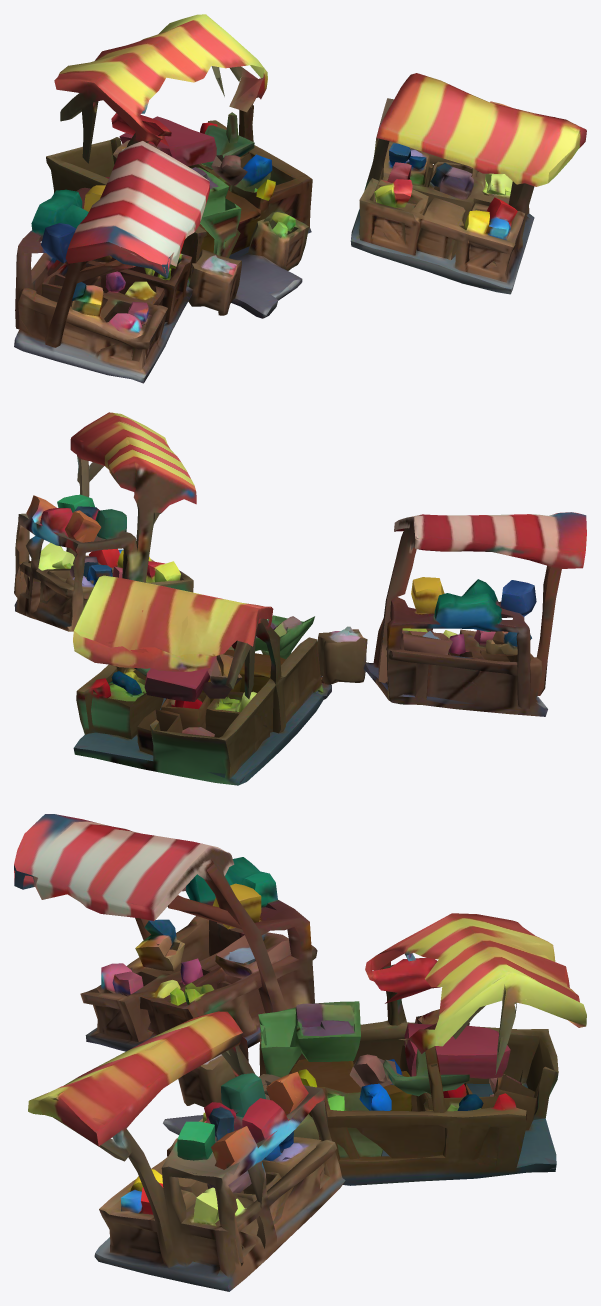
The model's file is trialMarket.glb.
3 views of the same model, one above another, from view 1: azimuth 30°, elevation 25°; view 2: azimuth 150°, elevation 25°; view 3: azimuth 270°, elevation 25° (orthographic). The views are drawn at different scales.
Visible parts, largest first — view 1: level; view 2: level; view 3: level.
Part boxes in pixels (x1=…): level: x1=14, y1=14, x2=586, y2=383; level: x1=14, y1=412, x2=586, y2=785; level: x1=14, y1=814, x2=586, y2=1291.
Size of the model in its own units: 0.8597 by 0.3068 by 0.6863.
1 material, 1 textured.
